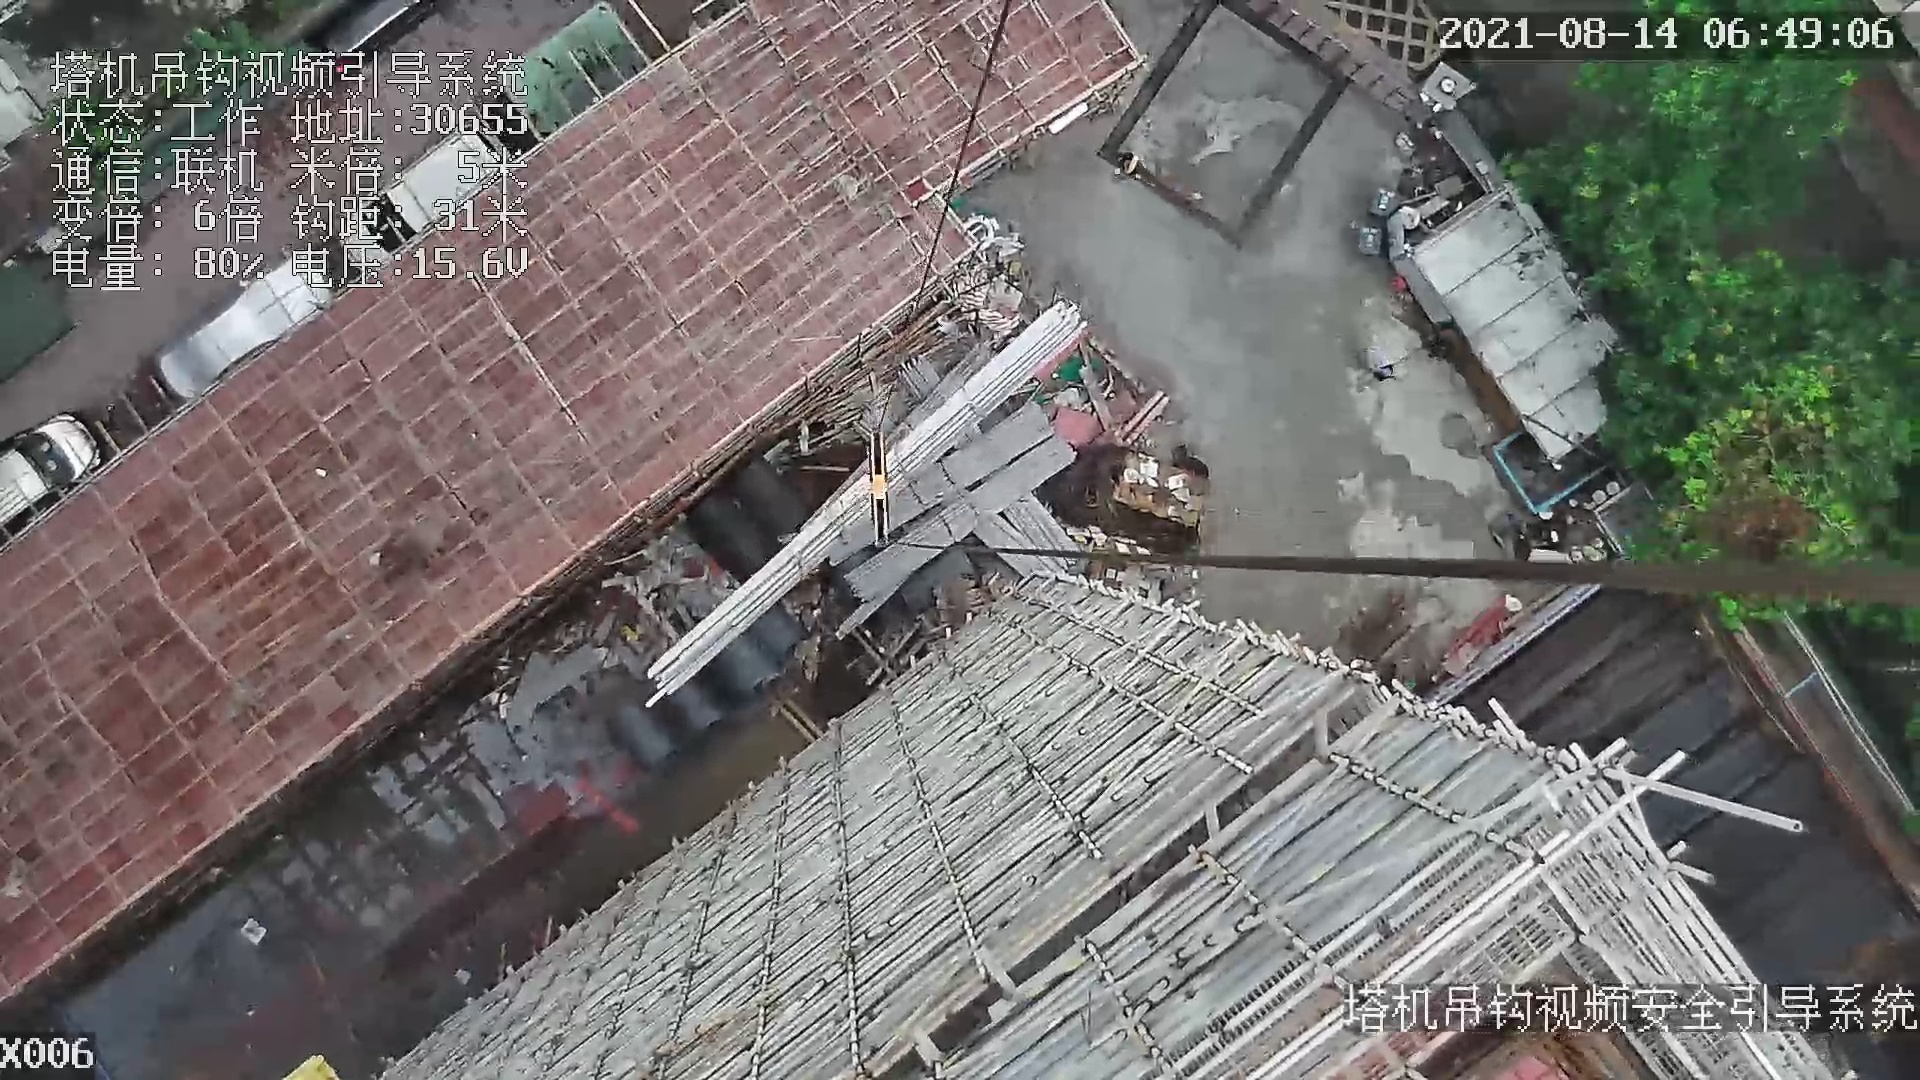hook: (862, 430, 899, 547)
hopper: (1481, 424, 1601, 520)
person: (1362, 337, 1404, 390), (1111, 148, 1143, 182)
